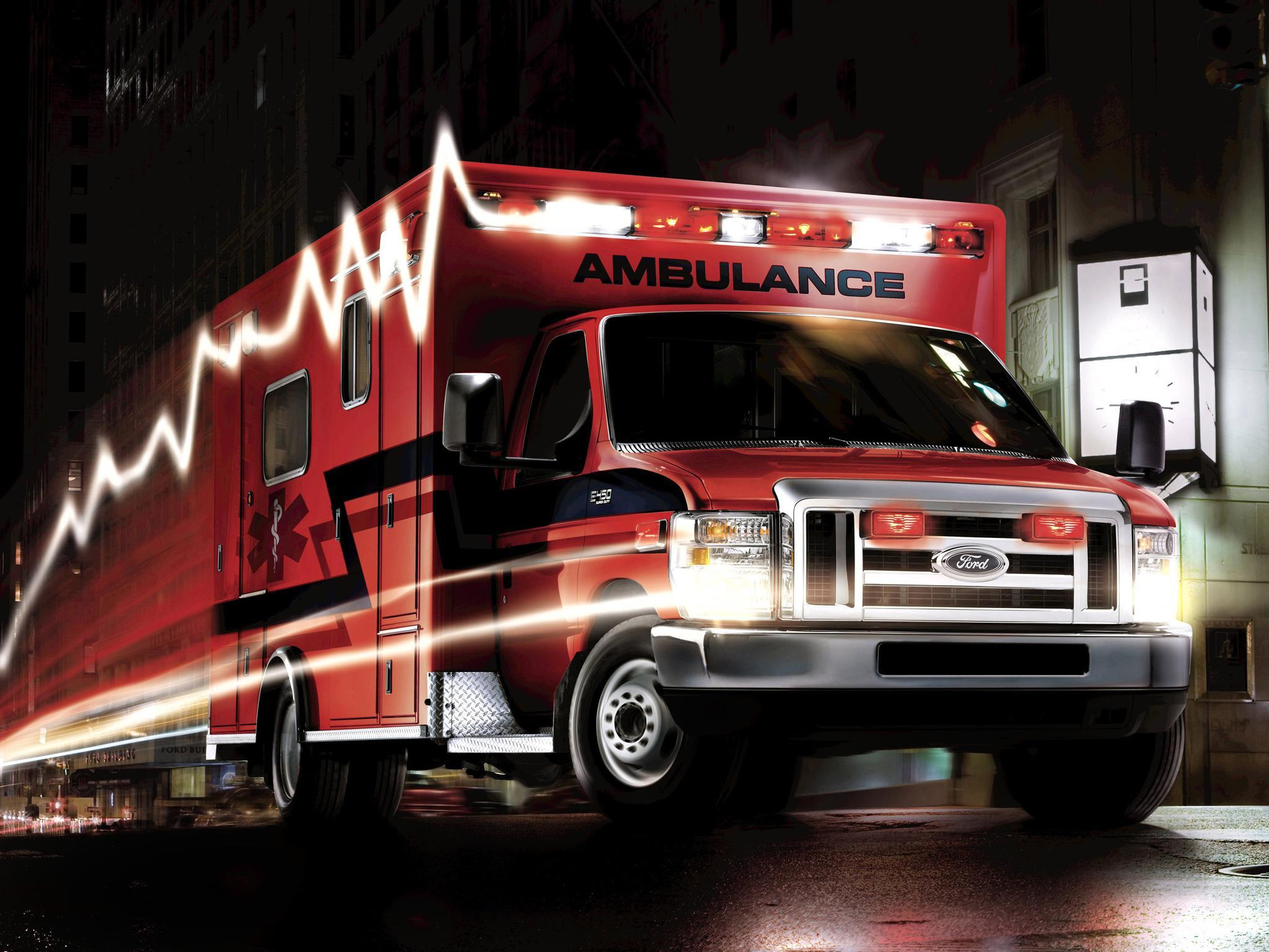Ambulance: (552, 244, 916, 314)
